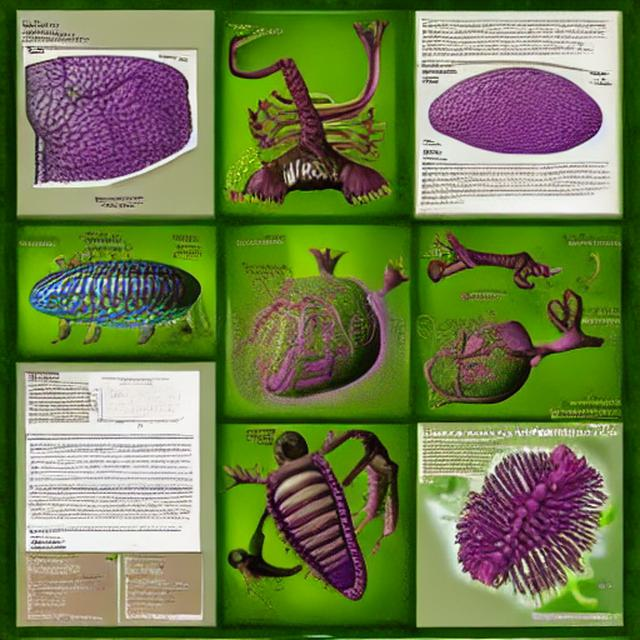Graph: (90, 376, 182, 431)
